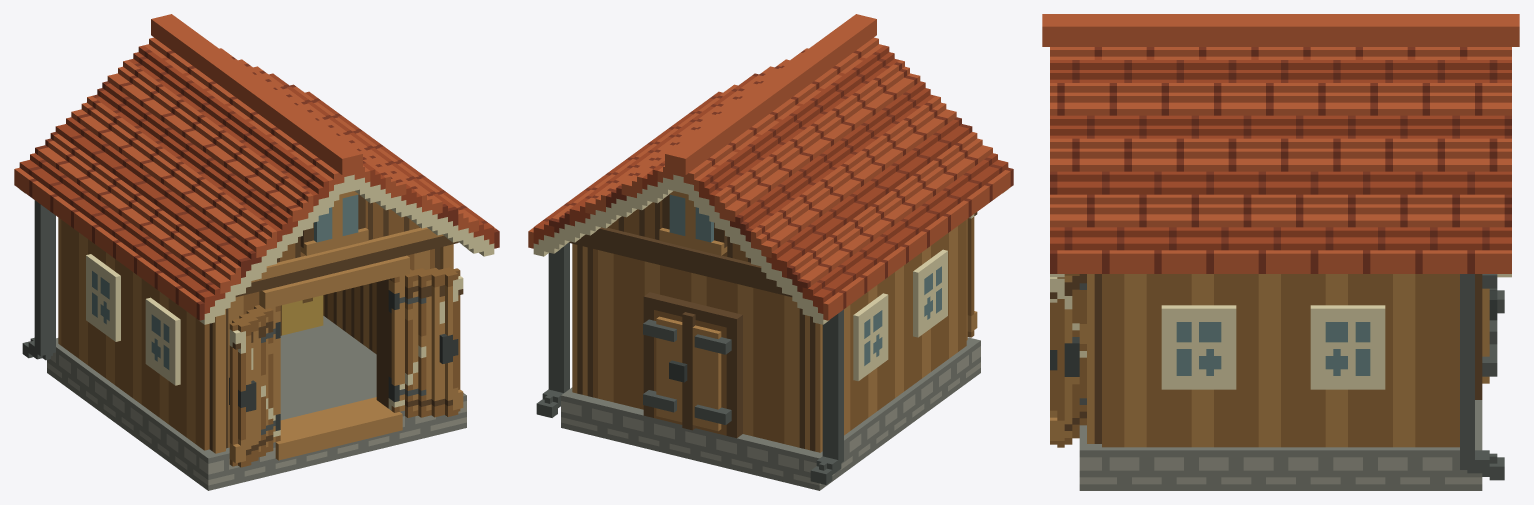
The model's file is barn.glb.
3 views of the same model, side by side, from view 1: azimuth 30°, elevation 25°; view 2: azimuth 150°, elevation 25°; view 3: azimuth 270°, elevation 25° (orthographic). The views are drawn at different scales.
Visible parts, largest first — view 1: barn; view 2: barn; view 3: barn.
Boxes of the visible parts, x1,y1,x2,y2 form: barn: (14,14,499,490); barn: (528,14,1013,490); barn: (1042,14,1519,490).
Size of the model in its own units: 7.54 by 7.54 by 8.32.
